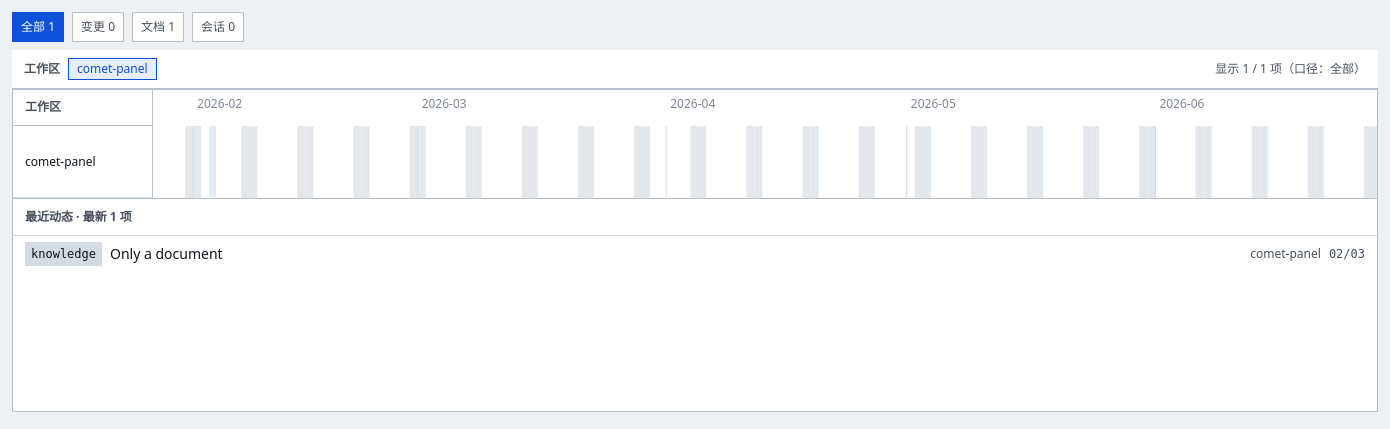
WikiTimeline › tells the reader where the work is when the chosen scope is empty
Expected: the element with test id "wiki-timeline" is shown, [12,89,1378,199]
Click the button "变更 0" at (98, 27), box [72,12,124,42]
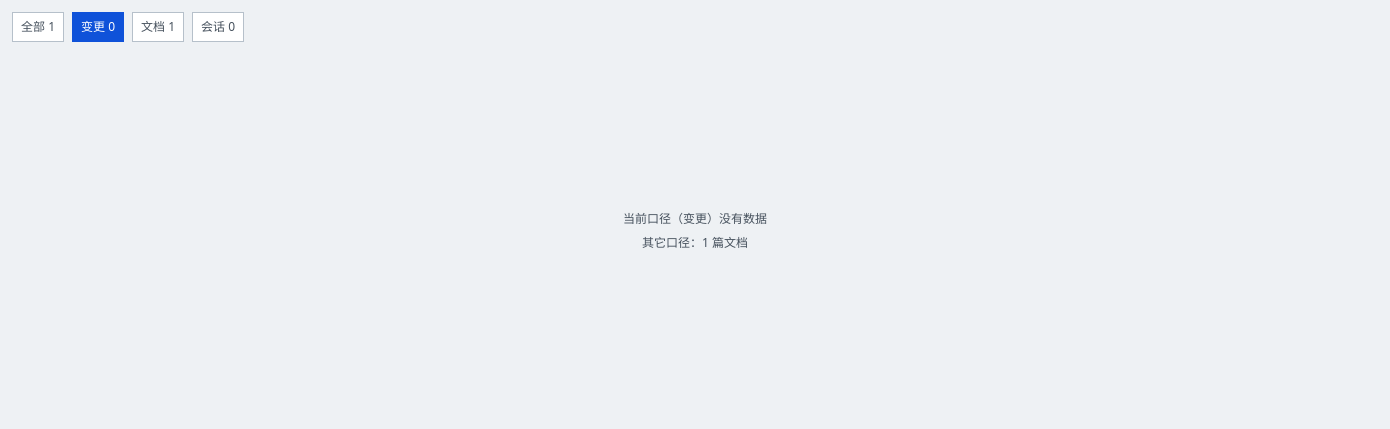
Expected: the text "当前口径（变更）没有数据" is shown, [623,209,767,229]
Expected: the text with test id "wiki-timeline-scope-hint" shows "1 篇文档", [642,234,748,251]
